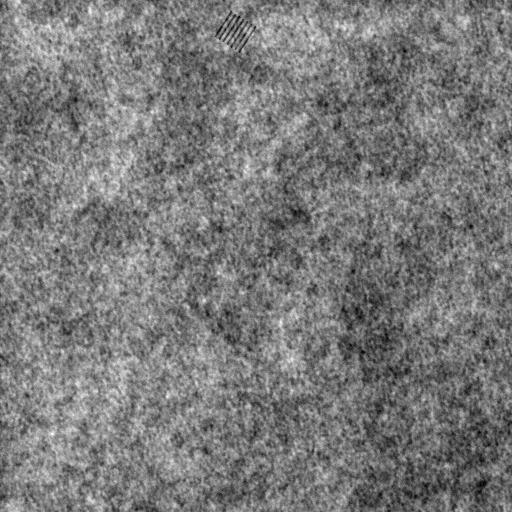impact: (213, 9, 260, 56)
